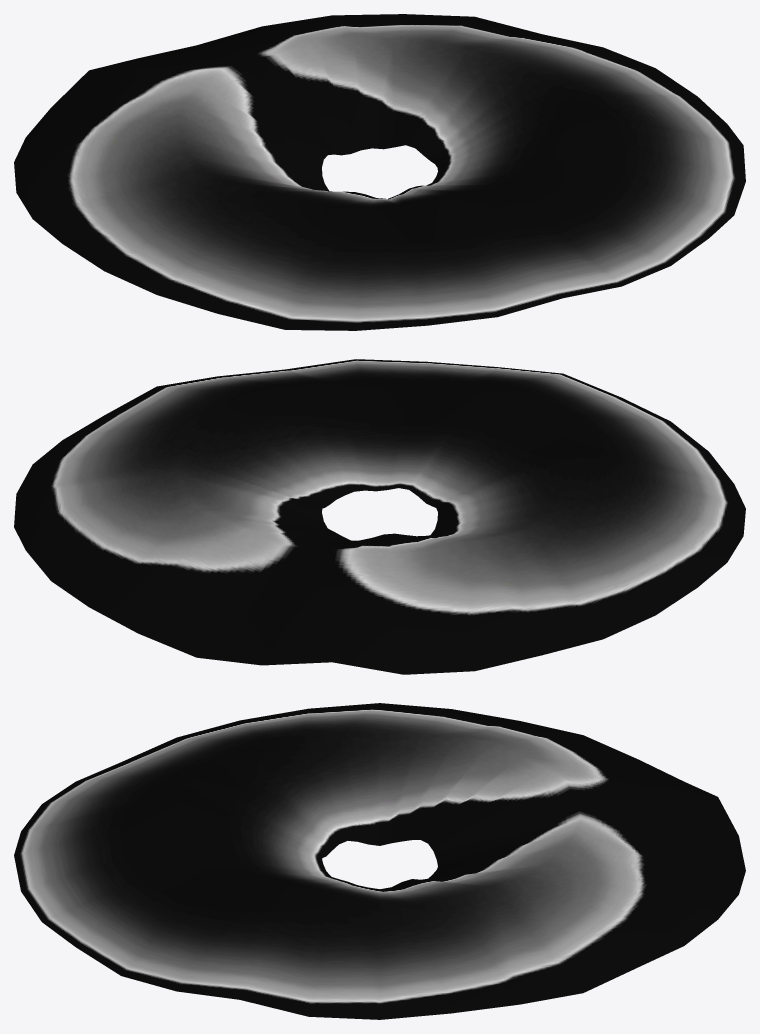
The model's file is 0274_dakelaiyi_ring_z02.glb.
3 views of the same model, one above another, from view 1: azimuth 30°, elevation 25°; view 2: azimuth 150°, elevation 25°; view 3: azimuth 270°, elevation 25° (orthographic).
Bounding box in the file's own units: 2.2 × 0.2011 × 2.2.
1 material, 1 textured.
